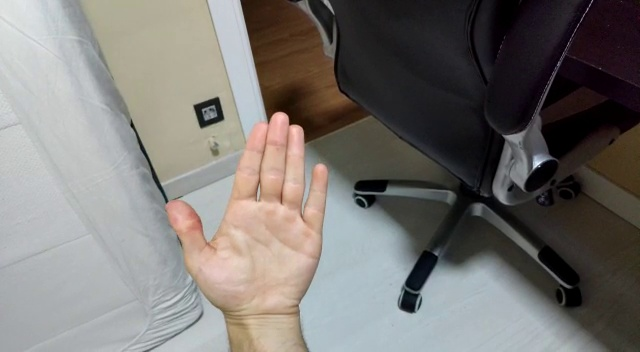Palm: (163, 108, 332, 317)
